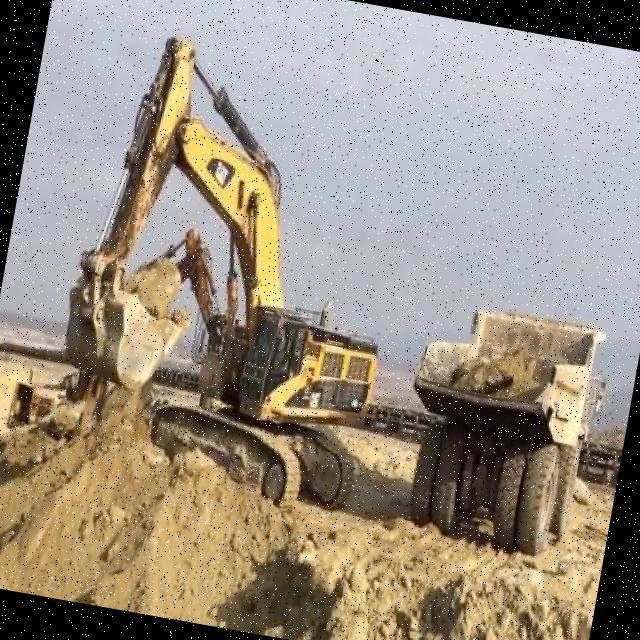Dump Truck: (388, 291, 613, 556)
Excavator: (41, 23, 432, 515)
